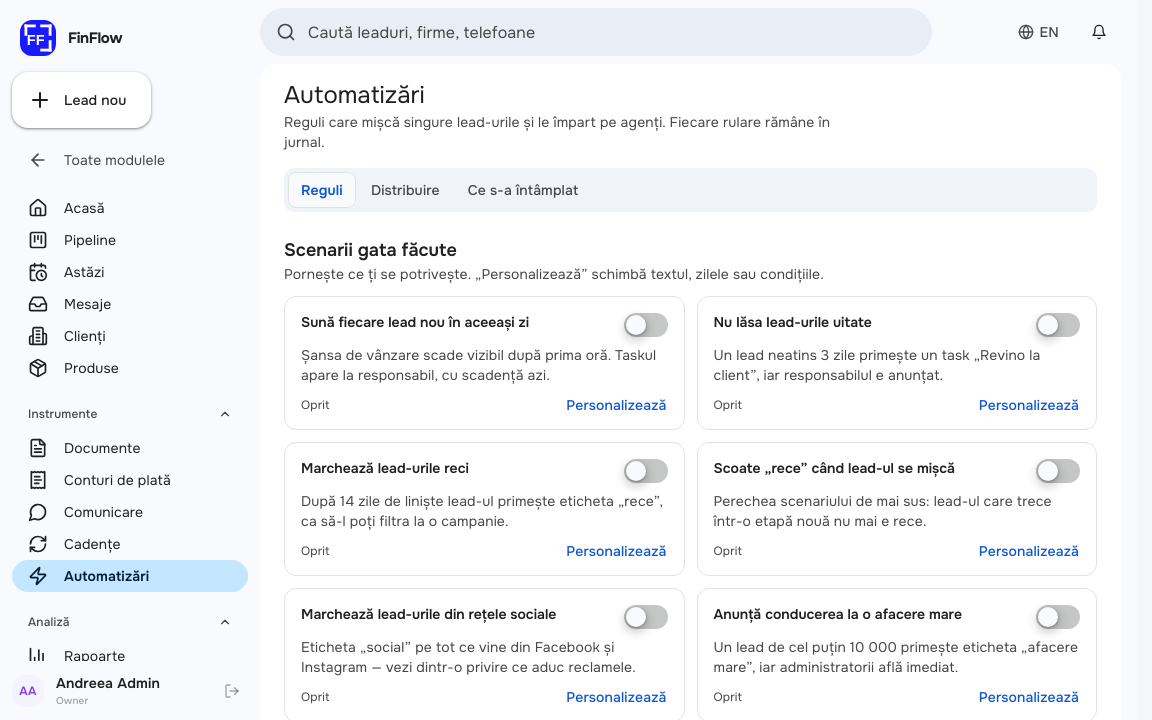
scenariile gata făcute › [blocant] comutatorul pornește scenariul: creează regula, ținând minte din ce scenariu vine
Click the switch named "pornește scenariul nu lăsa lead-urile uitate" at (1058, 325), box [1036,313,1080,337]
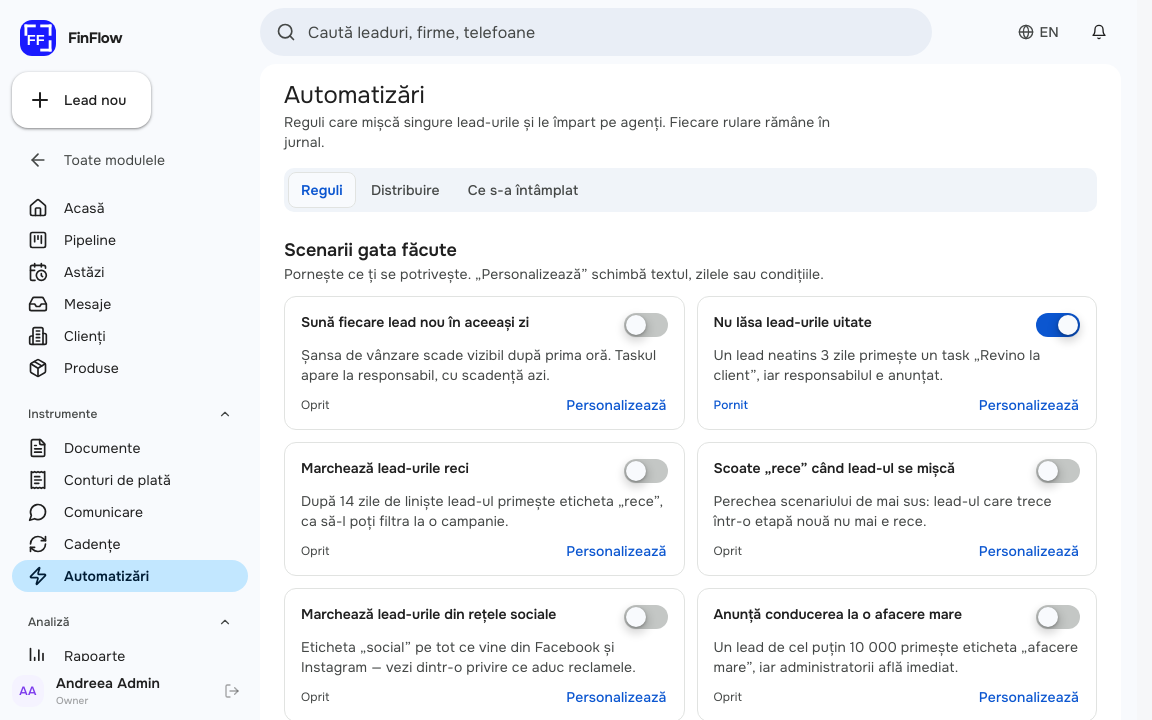
Result: the switch named "oprește scenariul nu lăsa lead-urile uitate" is shown at [1036,313,1080,337]
